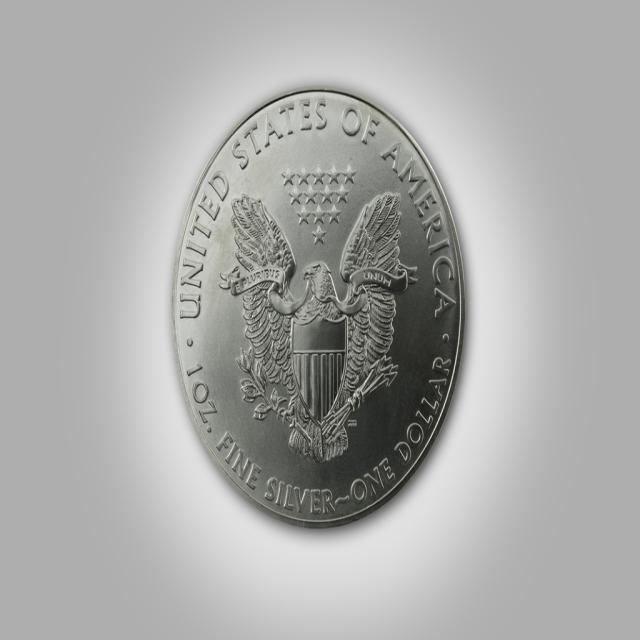Coin: (172, 82, 468, 535)
